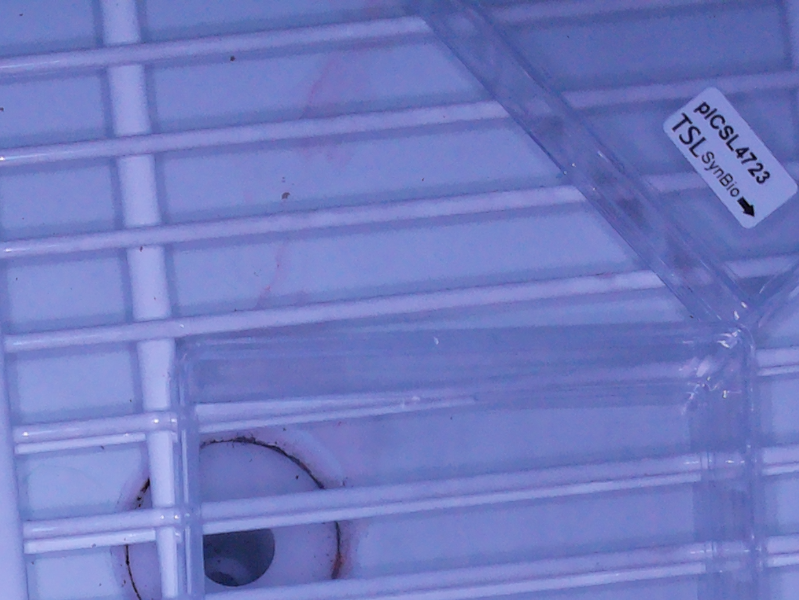plate: (175, 322, 769, 600), (422, 1, 799, 326)
